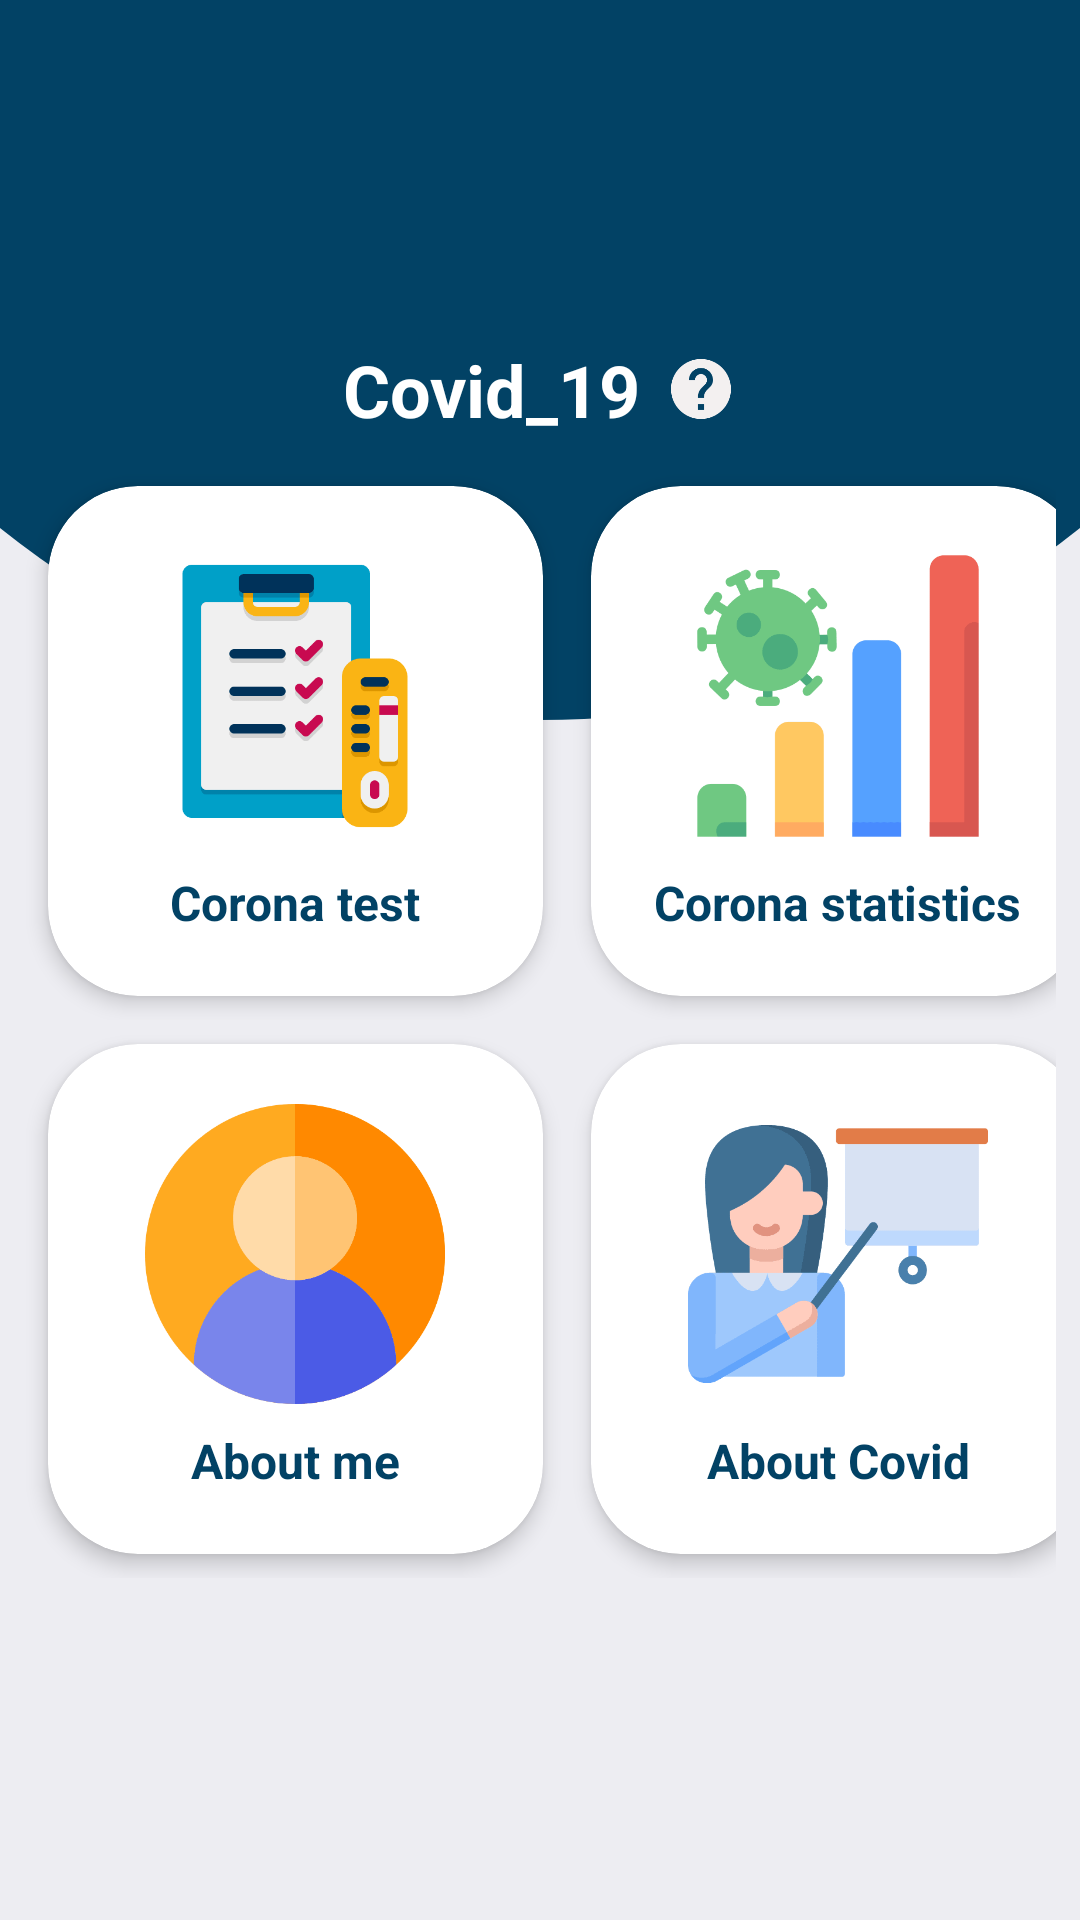

Locate icon controls on the screen. Image size 1080px x 1920px, boxes as (x1, y1, x2, y2).
help: (671, 359, 731, 419)
user: (145, 1104, 445, 1404)
